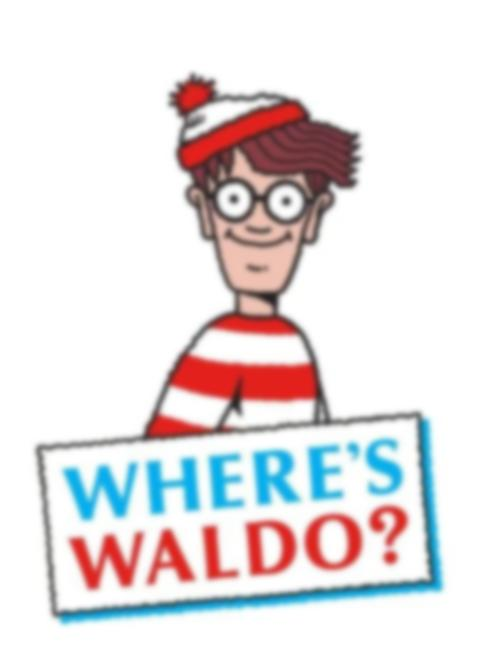waldos: (142, 73, 361, 440)
